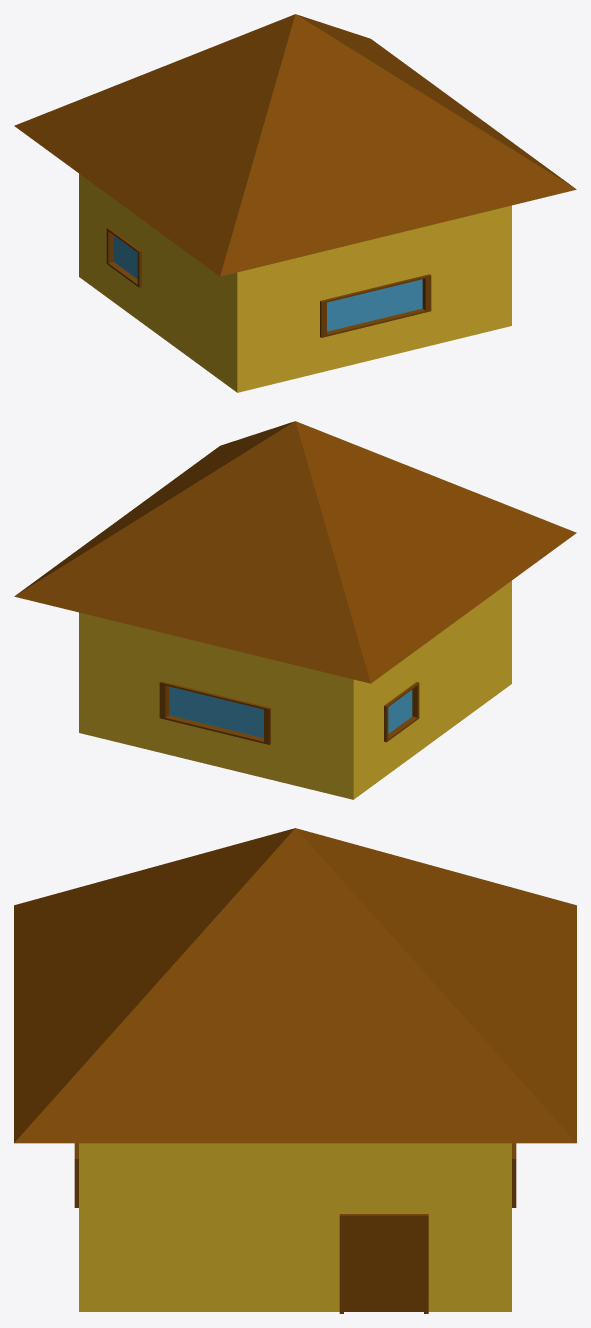
Rendered from casinha3.fbx.
The picture shows the model from 3 angles, top to bottom: view 1: azimuth 30°, elevation 25°; view 2: azimuth 150°, elevation 25°; view 3: azimuth 270°, elevation 25°; orthographic projection. The views are drawn at different scales.
Visible parts, largest first — view 1: Cube.002; view 2: Cube.002; view 3: Cube.002.
Boxes of the visible parts, bbox=[...] form: Cube.002: bbox=[14, 14, 576, 392]; Cube.002: bbox=[14, 421, 576, 799]; Cube.002: bbox=[14, 828, 576, 1313].
Size of the model in its own units: 1300 by 1000 by 1300.
